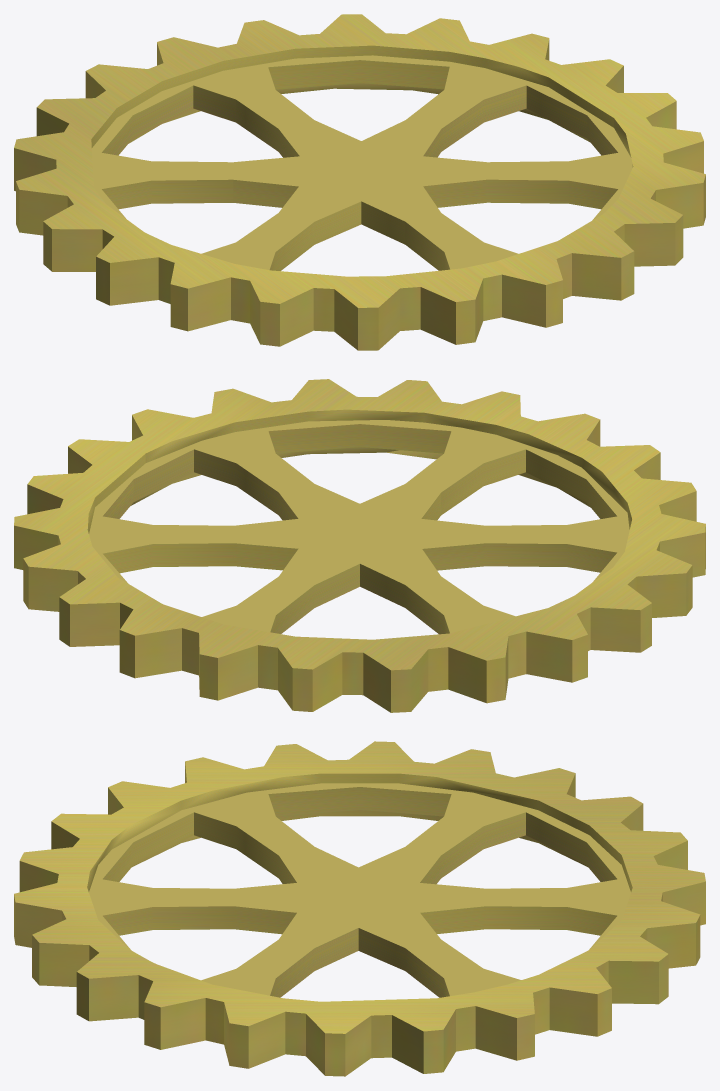
File: CogInset6Spoke022.fbx
3 renders of one model, top to bottom at view 1: azimuth 30°, elevation 25°; view 2: azimuth 150°, elevation 25°; view 3: azimuth 270°, elevation 25°, orthographic.
Parts seen in each view (by area): view 1: CogInset6Spoke022; view 2: CogInset6Spoke022; view 3: CogInset6Spoke022.
Part boxes in pixels (x1=…): CogInset6Spoke022: x1=14, y1=14, x2=705, y2=350; CogInset6Spoke022: x1=14, y1=379, x2=705, y2=712; CogInset6Spoke022: x1=14, y1=741, x2=705, y2=1076.
Bounding box in the file's own units: 215 × 14.59 × 215.
